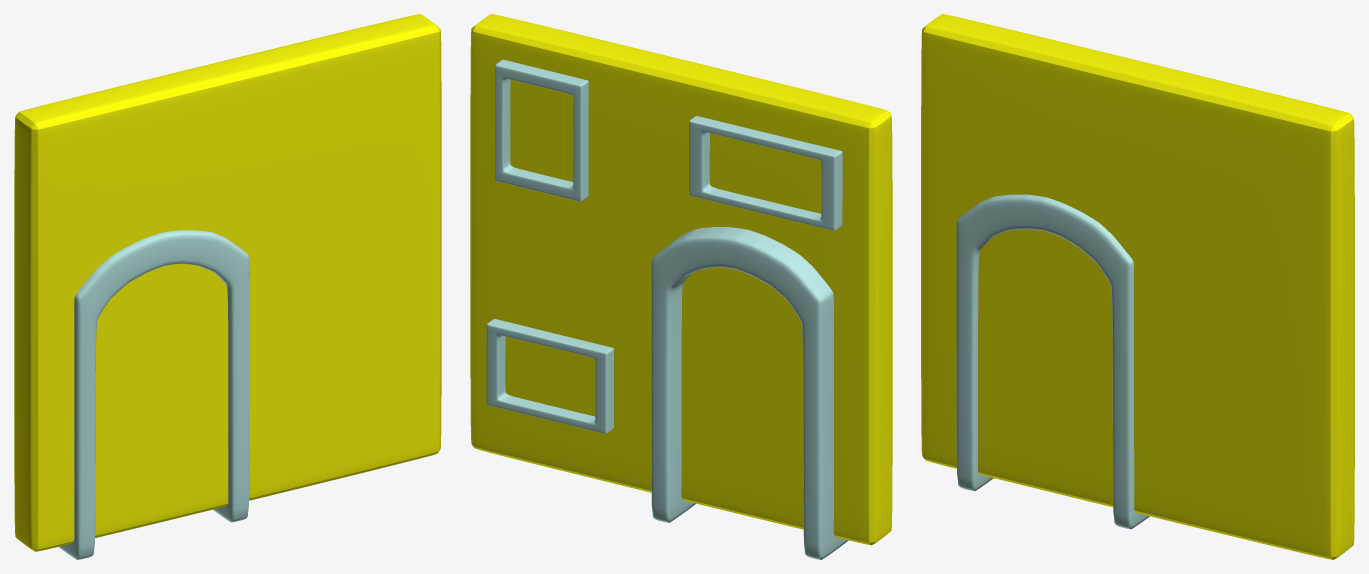
3 renders of one model, left to right at view 1: azimuth 30°, elevation 25°; view 2: azimuth 150°, elevation 25°; view 3: azimuth 330°, elevation 25°, orthographic. The views are drawn at different scales.
Parts seen in each view (by area): view 1: polySurface1257; view 2: polySurface1257; view 3: polySurface1257.
Boxes of the visible parts, x1,y1,x2,y2 form: polySurface1257: (14, 14, 441, 559); polySurface1257: (470, 14, 892, 559); polySurface1257: (921, 14, 1354, 559).
Size of the model in its own units: 0.9995 by 1.03 by 0.1693.
